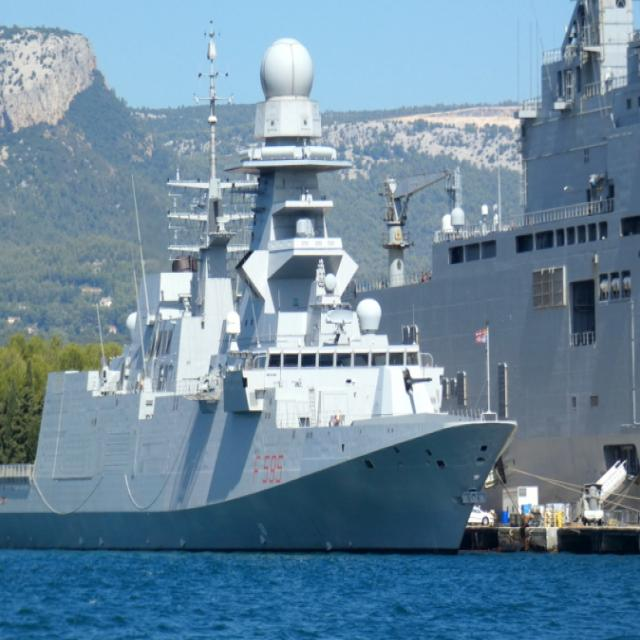Fragata: (1, 22, 523, 562)
